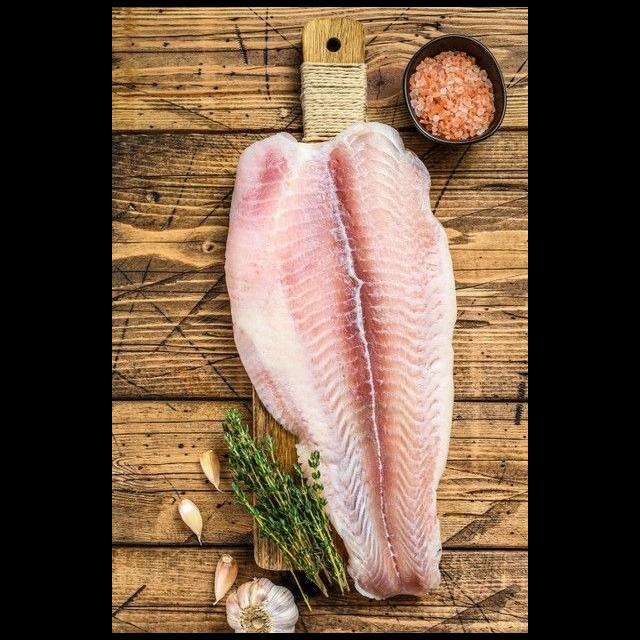fish: (214, 117, 462, 609)
